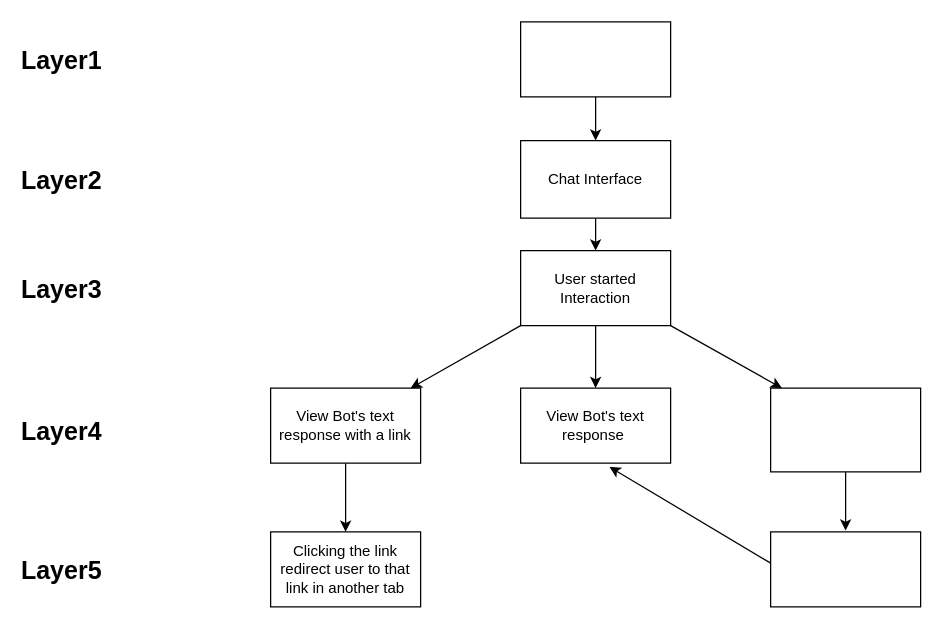
Some shapes in this 943 by 629 pixel diagram are drawn without their labels. The shapes that lost their labels are listed below. From the top down, each one's centre as x and y in pixels, then its label:
At (x=595, y=59): "Chat Widget".
At (x=845, y=429): "View Bot's response with Suggestion Chips".
At (x=845, y=569): "User clicks the suggestion chip for fast reply".
